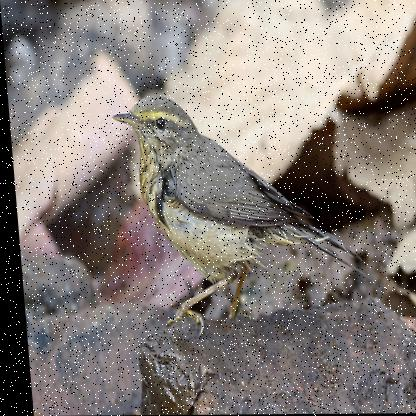Burung: (109, 95, 370, 328)
